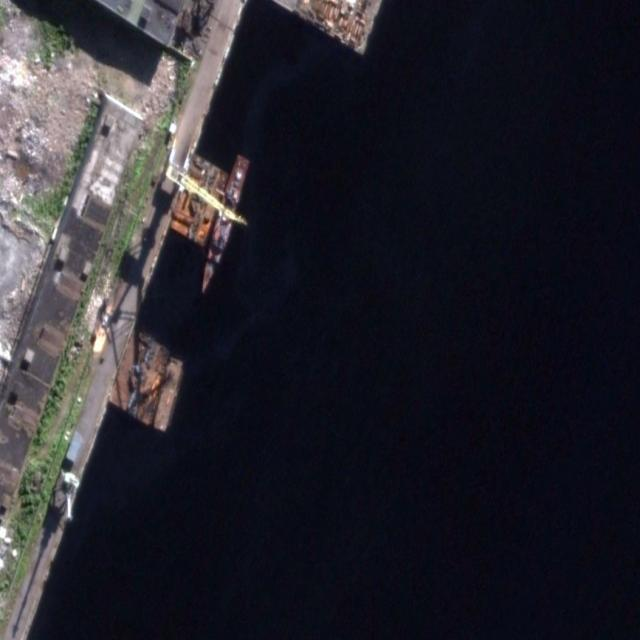Other Ship: (195, 151, 253, 299)
